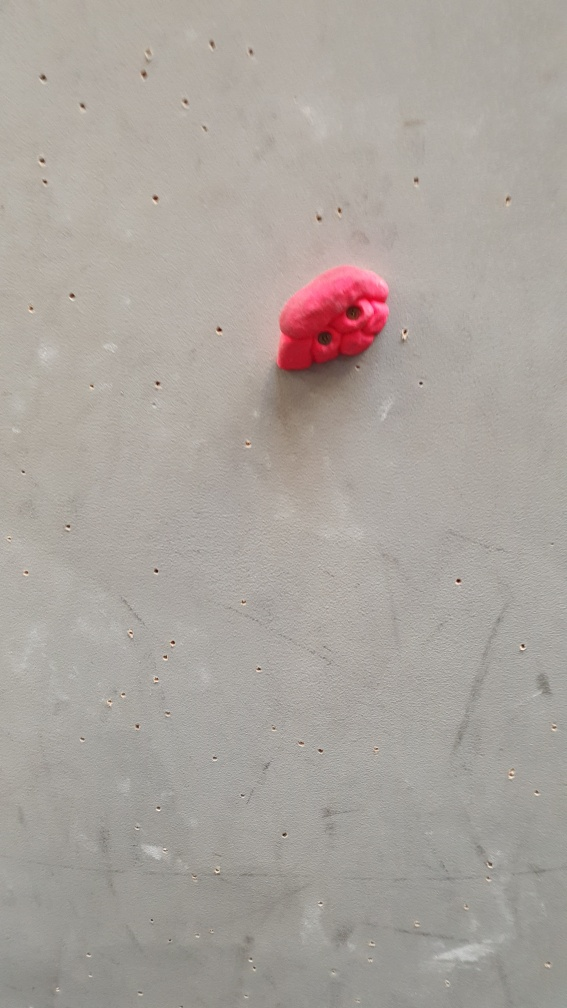Jug: (267, 266, 396, 377)
